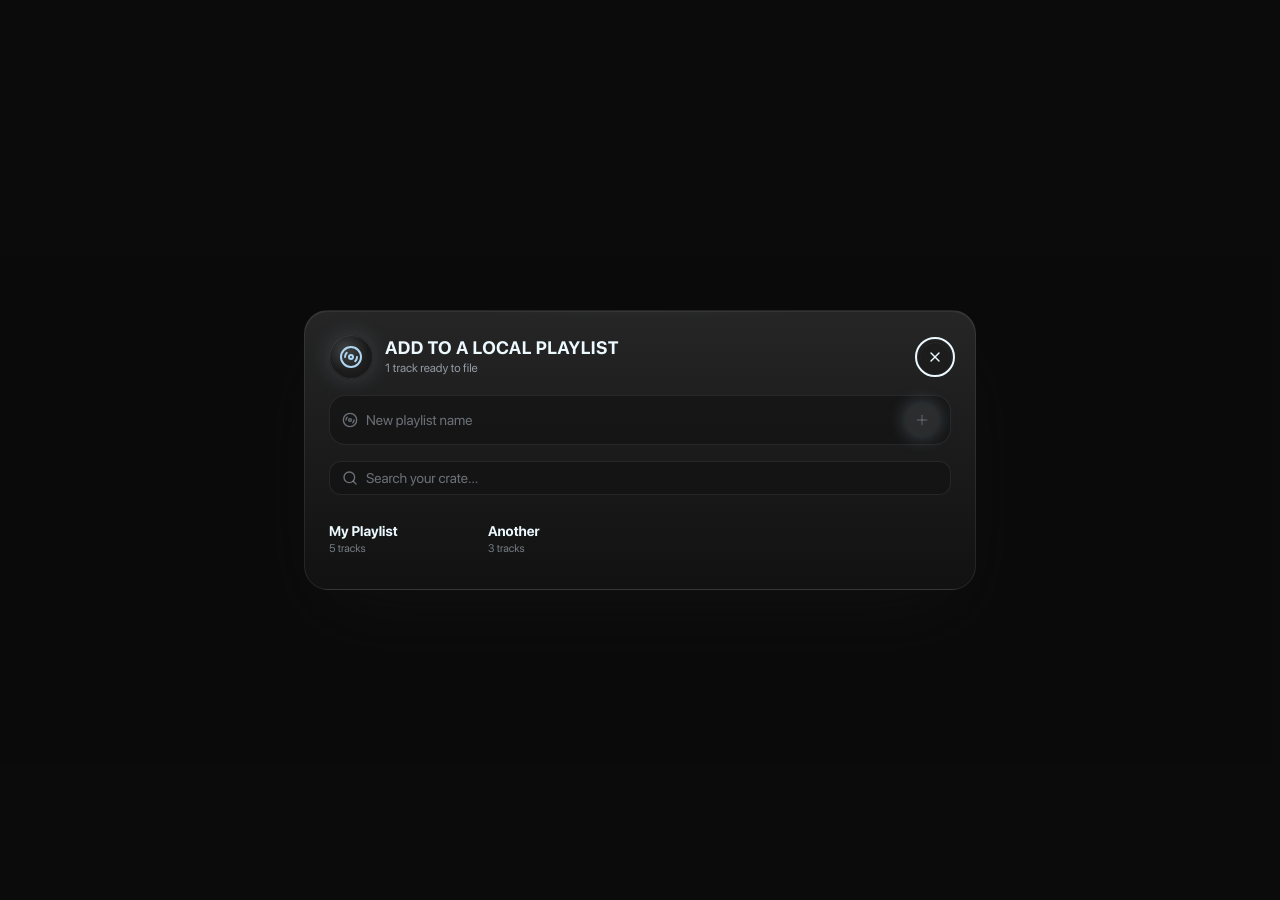
Test: AddToPlaylistModal.svelte › after adding, button becomes a remove action
Expected: the text "My Playlist" is shown, [329,521,398,541]
Click the button with aria-label "Add to My Playlist". click: (402, 536)
box: [329,514,474,557]
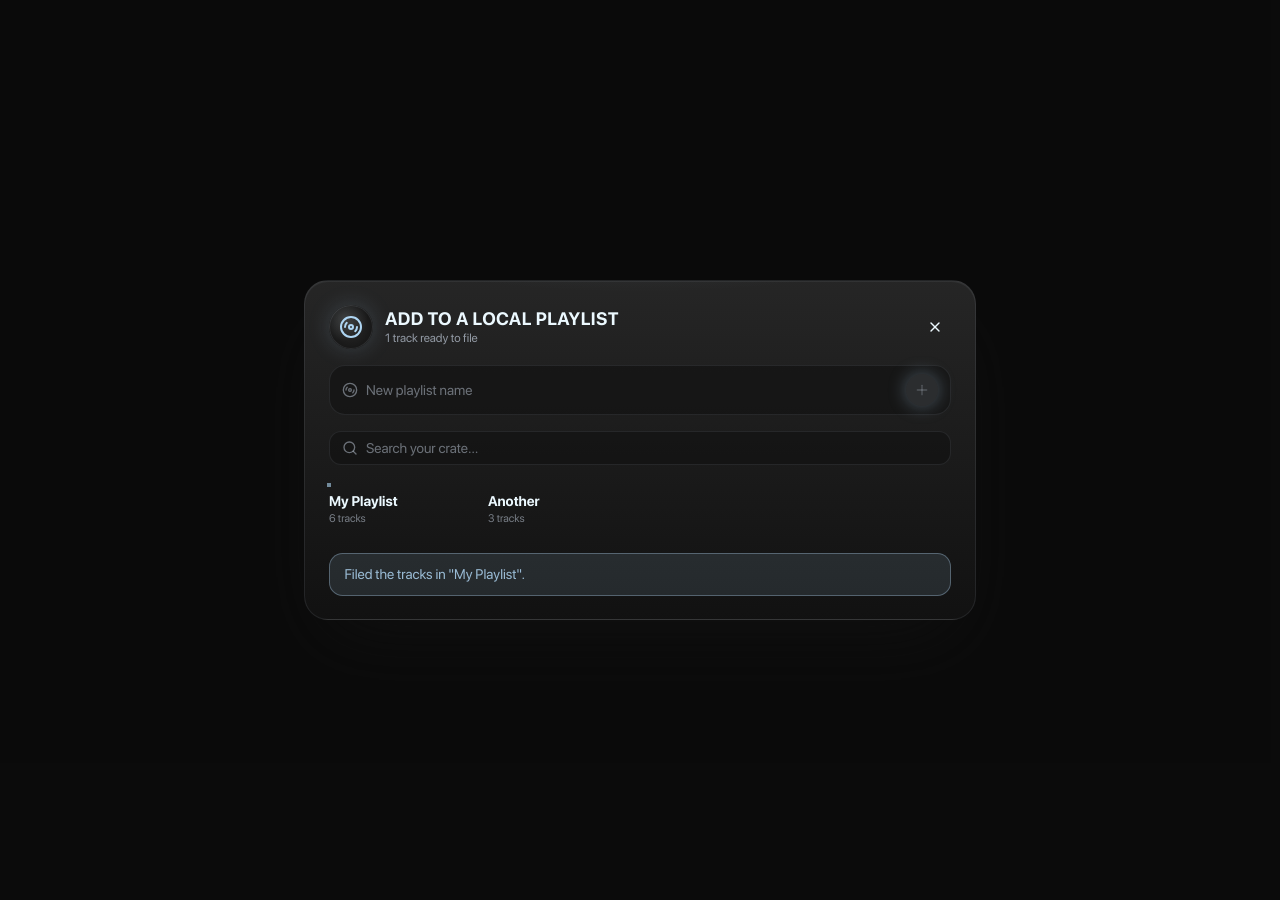
Now the button with aria-label "Remove from My Playlist" is shown, box [329,485,474,528]
